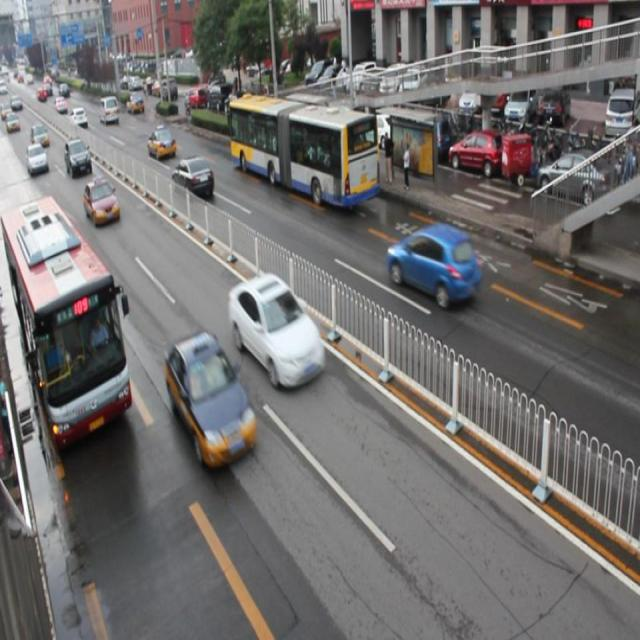car: (165, 333, 258, 468), (229, 276, 326, 391), (386, 223, 480, 309), (83, 173, 121, 226), (173, 155, 214, 199), (146, 123, 176, 158), (65, 139, 92, 176)
van: (1, 198, 132, 448), (229, 91, 377, 210)
